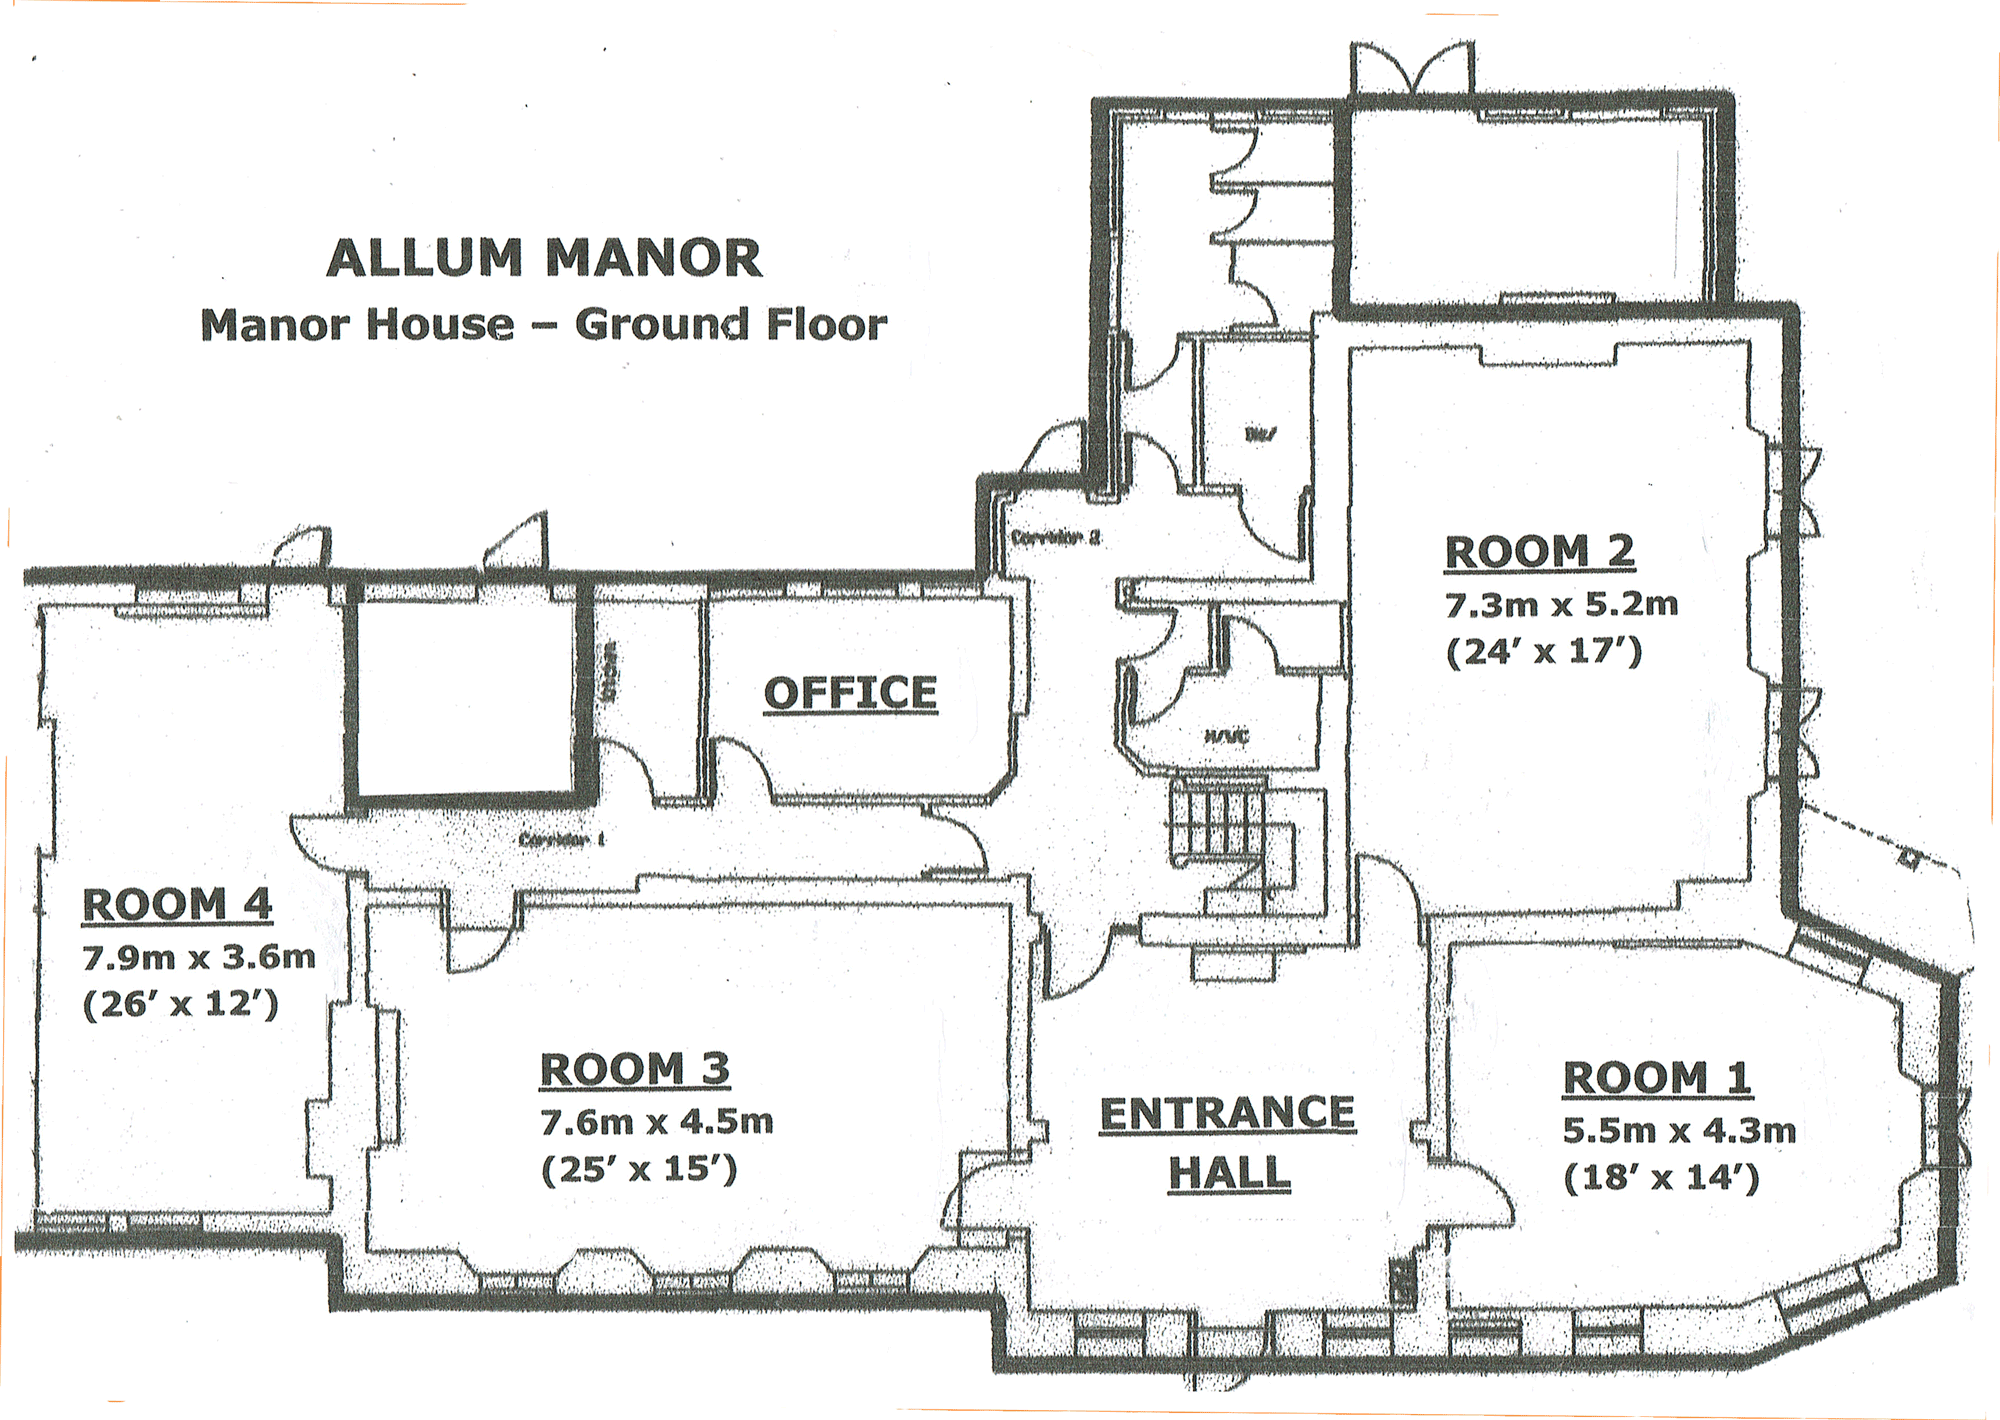room: (1330, 300, 1794, 944), (349, 873, 1028, 1305), (1418, 911, 1959, 1346), (28, 564, 352, 1249), (1003, 907, 1452, 1366), (700, 570, 1025, 807), (344, 573, 596, 807)
